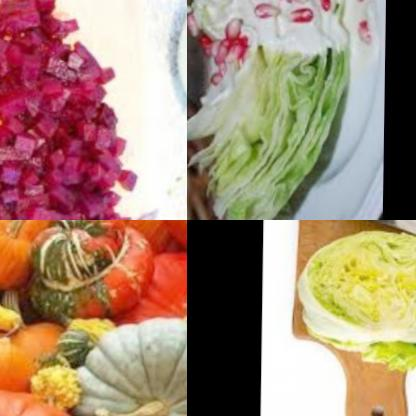beans: (195, 13, 253, 82), (250, 0, 312, 29), (346, 18, 371, 43), (308, 0, 331, 13), (351, 0, 370, 6)
beet: (0, 0, 152, 220)
pumpkin: (16, 220, 157, 327), (22, 220, 146, 320), (70, 317, 187, 416), (0, 300, 83, 399), (129, 252, 187, 376), (0, 220, 36, 278), (0, 279, 25, 348), (159, 220, 187, 256)
salad: (187, 48, 341, 220), (287, 227, 416, 369)
